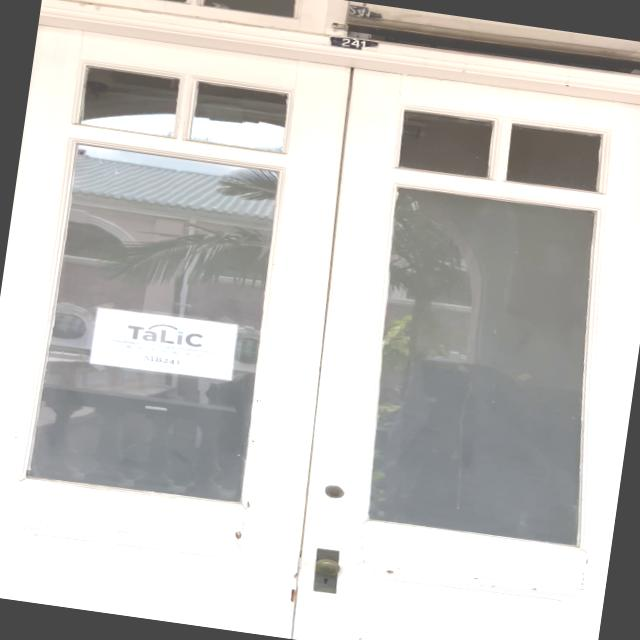room241: (327, 34, 381, 54)
